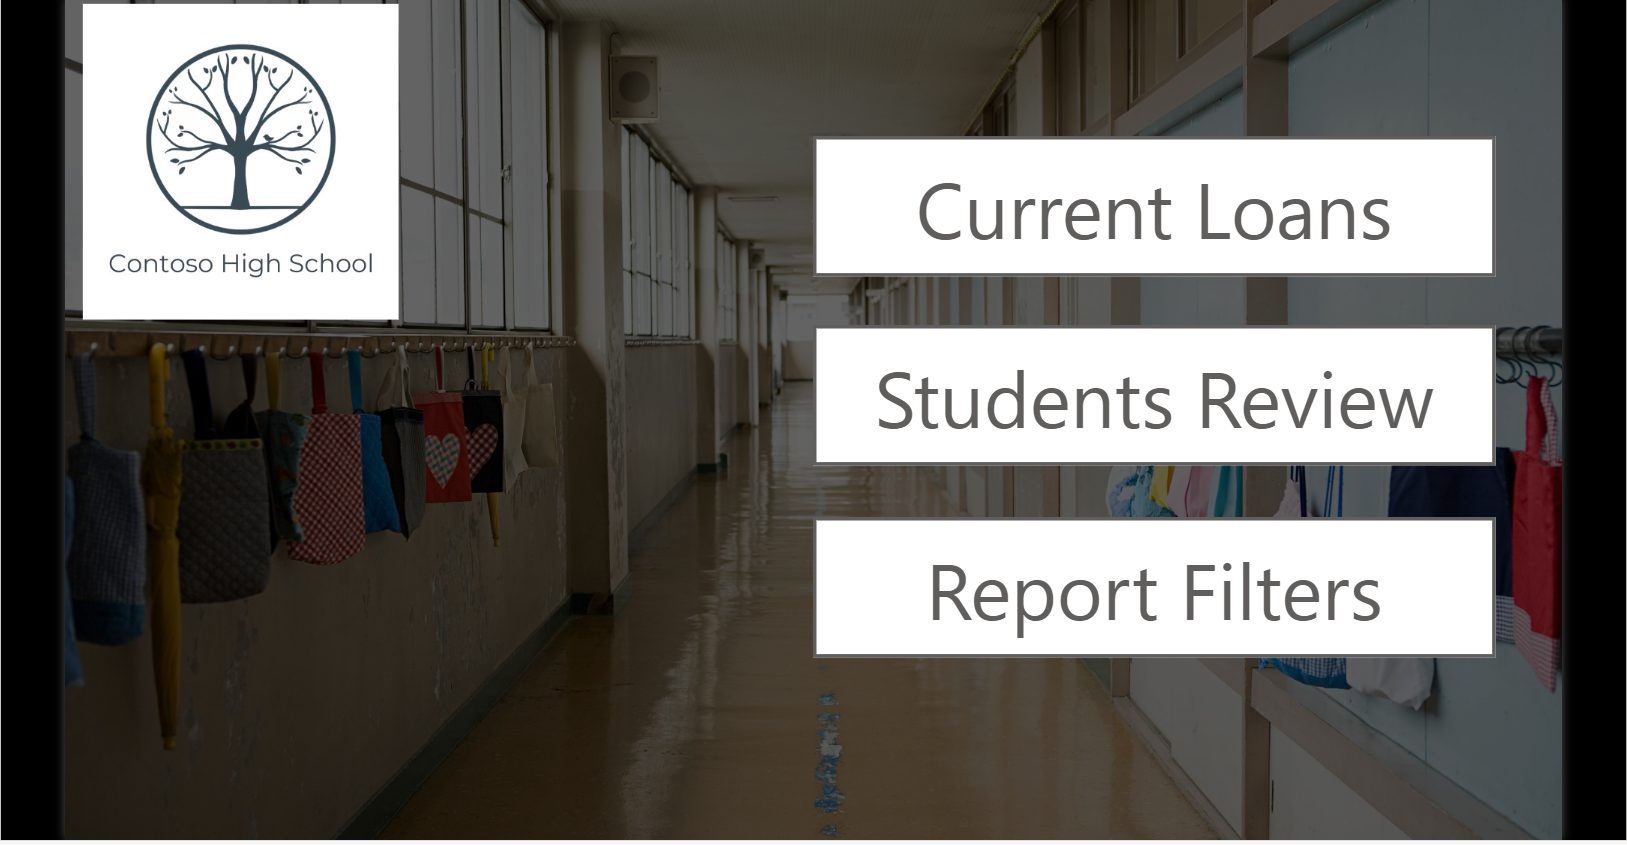

The page's visual inventory and layout, read from the dashboard file:
{"tool":"powerbi","page":{"name":"Landing Page","canvas":[1280,720],"ordinal":0},"visuals":[{"type":"image","box":[10,0,280,280],"z":0},{"type":"actionButton","box":[640,118.3,583.8,120.2],"z":1000},{"type":"actionButton","box":[640,279.3,583.8,120.2],"z":2000},{"type":"actionButton","box":[640,444.1,583.8,120.2],"z":3000}]}

Visuals, with their boxes on the page's 1280x720 design canvas (x1, y1, x2, y2). These are canvas units, not pixel positions in the 1627x845 screenshot, which may show the page scaled, cropped or inside an application window:
image: bbox=[10, 0, 290, 280]
actionButton: bbox=[640, 118, 1224, 238]
actionButton: bbox=[640, 279, 1224, 400]
actionButton: bbox=[640, 444, 1224, 564]
